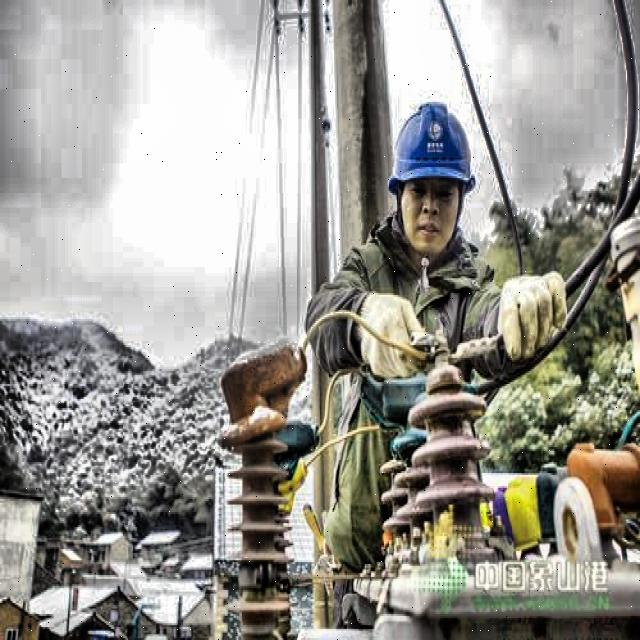helmet: (382, 89, 480, 265)
